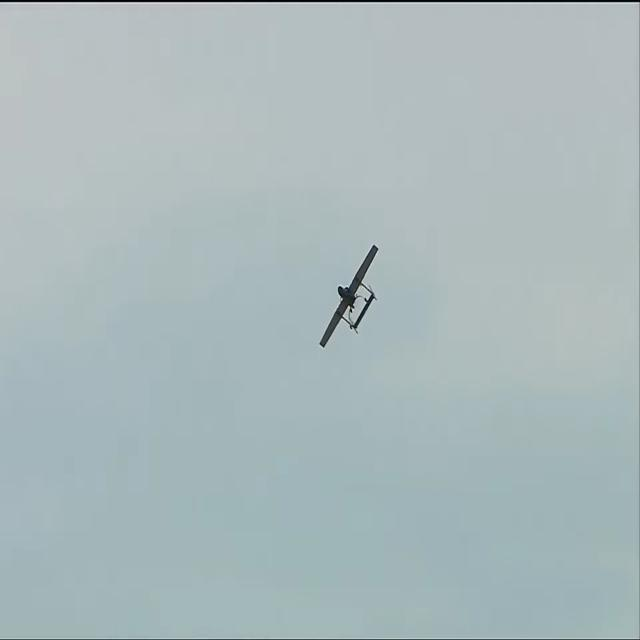iha: (319, 275, 380, 318)
